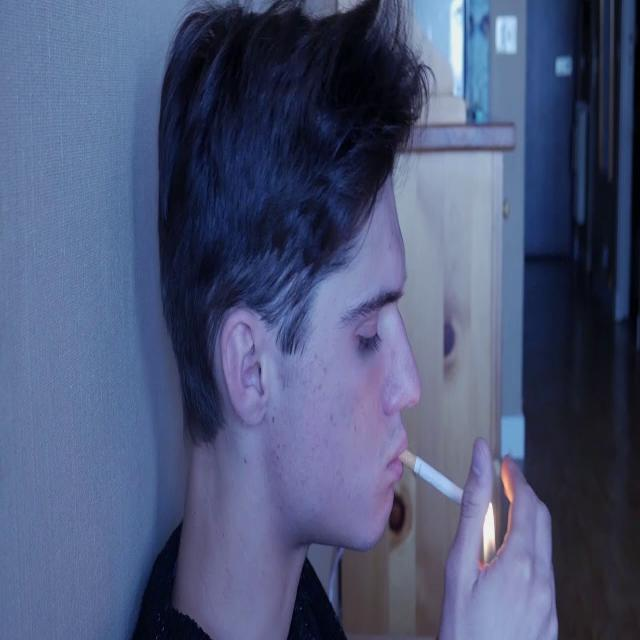smoke: (396, 447, 472, 515)
